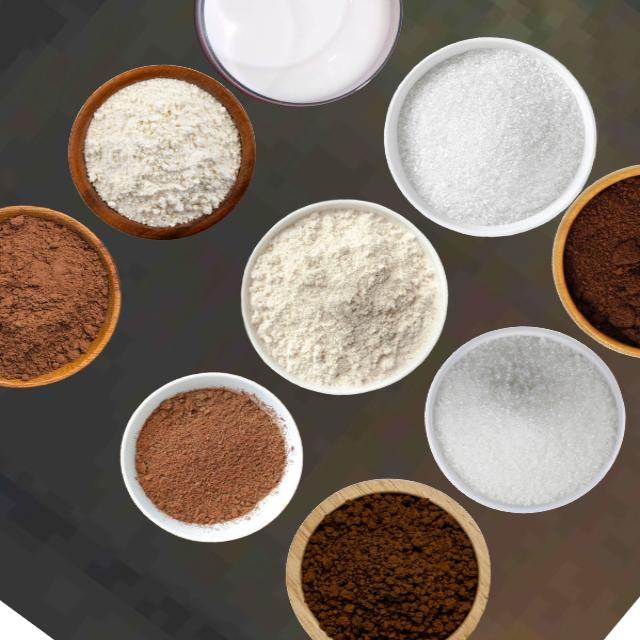Cocoa: (134, 385, 287, 526), (0, 206, 115, 385)
Coffee: (300, 490, 479, 639), (562, 172, 639, 348)
Flour: (248, 206, 437, 389), (82, 76, 241, 228)
Sugar: (396, 46, 584, 226), (433, 333, 617, 506)
